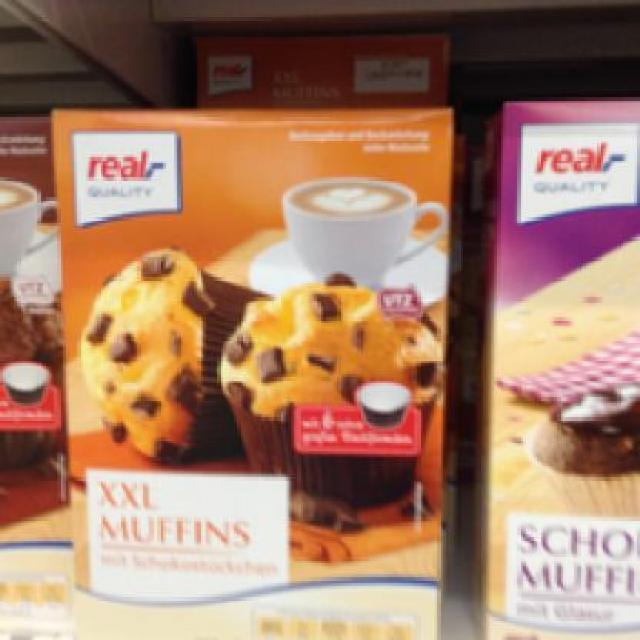Cake: (42, 100, 458, 637), (477, 90, 637, 626)
